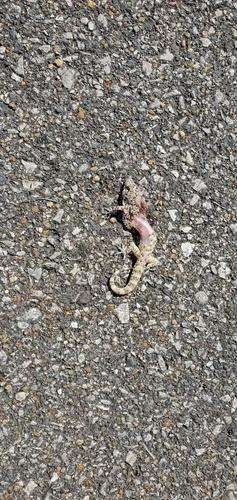lizard: (93, 177, 171, 299)
